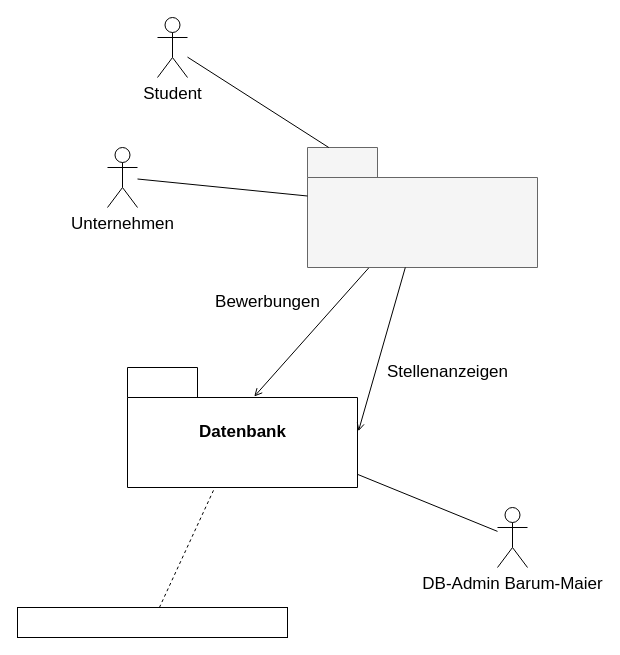
This 620x655 diagram has some shape labels left out. Each missing label, with the box of its shape:
Academic Flow: (306, 146, 538, 268)
URL: jdbc:postgresql://dumbo.inf.h-brs.de:5432/kgolub2s: (16, 606, 288, 638)
